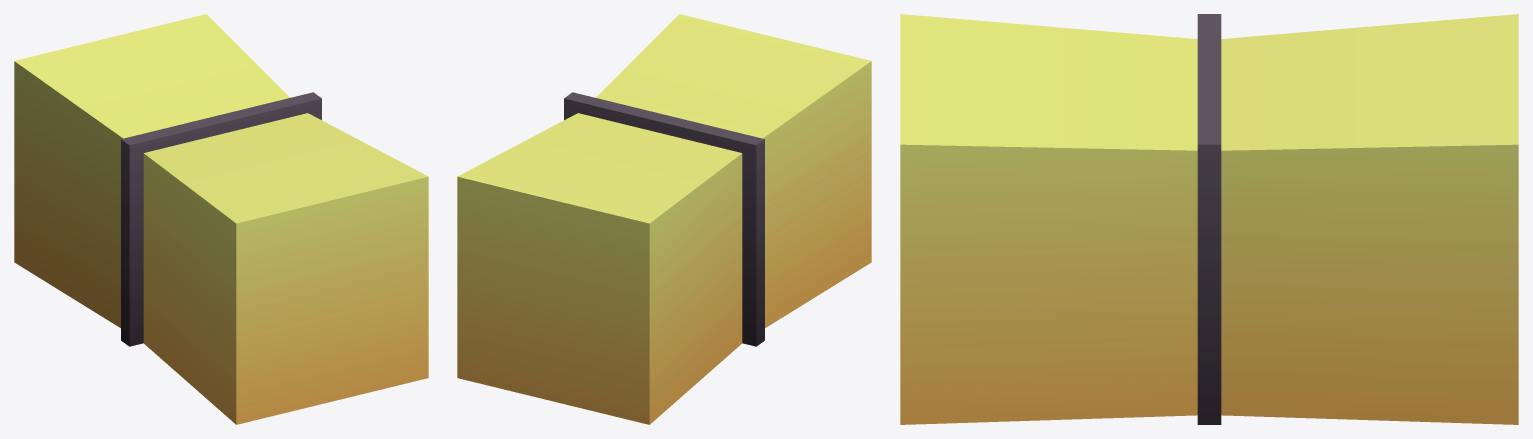
The model's file is haybale.glb.
3 renders of one model, left to right at view 1: azimuth 30°, elevation 25°; view 2: azimuth 150°, elevation 25°; view 3: azimuth 270°, elevation 25°, orthographic. The views are drawn at different scales.
Visible parts, largest first — view 1: haybale; view 2: haybale; view 3: haybale.
Boxes of the visible parts, x1,y1,x2,y2 form: haybale: (14,14,428,424); haybale: (457,14,871,424); haybale: (900,14,1518,424).
Size of the model in its own units: 2 by 2 by 4.
1 material, 1 textured.
